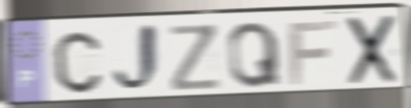C: (51, 29, 104, 96)
F: (287, 17, 340, 87)
J: (110, 21, 164, 98)
Q: (226, 19, 284, 90)
X: (346, 12, 399, 88)
Z: (167, 22, 224, 94)
